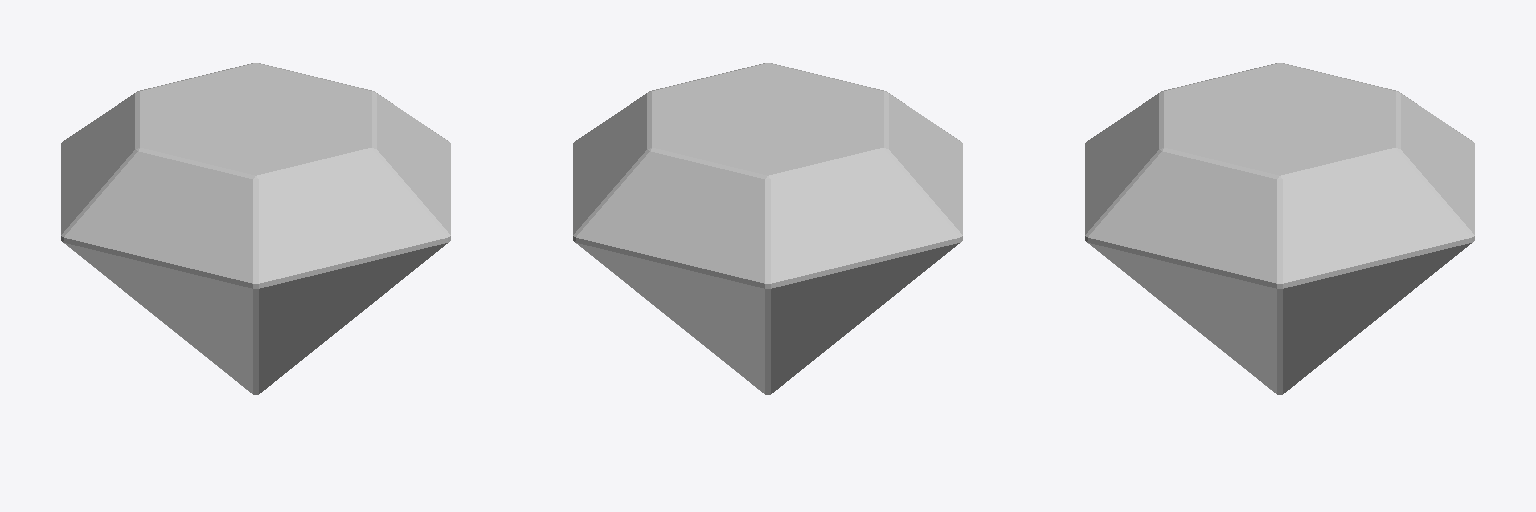
Rendered from gem.obj.
3 views of the same model, side by side, from view 1: azimuth 30°, elevation 25°; view 2: azimuth 150°, elevation 25°; view 3: azimuth 270°, elevation 25° (orthographic).
Visible parts, largest first — view 1: Gem_Diamond_2.001_Diamond.002; view 2: Gem_Diamond_2.001_Diamond.002; view 3: Gem_Diamond_2.001_Diamond.002.
Boxes of the visible parts, x1,y1,x2,y2 form: Gem_Diamond_2.001_Diamond.002: [61, 63, 450, 394]; Gem_Diamond_2.001_Diamond.002: [573, 63, 962, 394]; Gem_Diamond_2.001_Diamond.002: [1085, 63, 1474, 394].
Bounding box in the file's own units: 1.86 × 1.25 × 1.62.